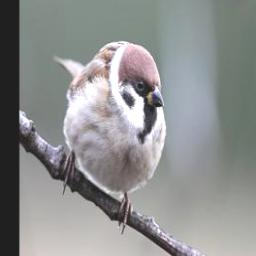Sparrow: (54, 39, 167, 233)
